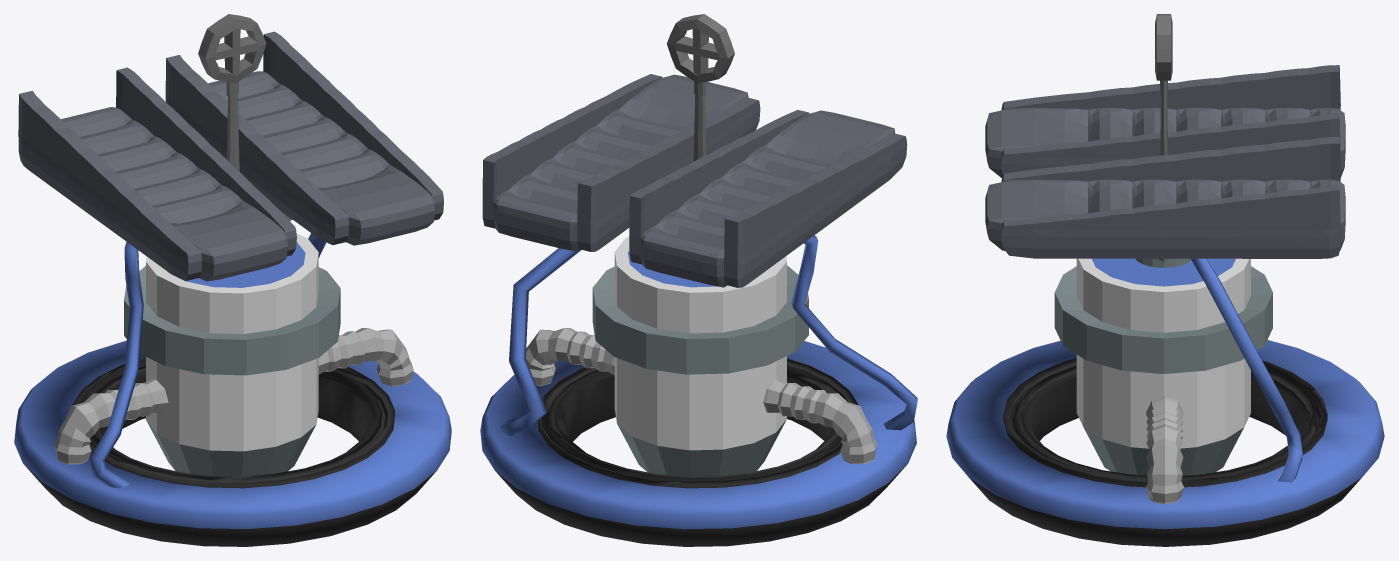
Rendered from rocketlauncher_level6.fbx.
The picture shows the model from 3 angles, left to right: view 1: azimuth 30°, elevation 25°; view 2: azimuth 150°, elevation 25°; view 3: azimuth 270°, elevation 25°; orthographic projection.
Visible parts, largest first — view 1: base.001, reactor, settlement_place.007, settlement_place.008, pipe_left.002, cable_right.002, pipe_left.001, focus_point.001, focus_point_bottom.001; view 2: base.001, reactor, settlement_place.007, settlement_place.008, pipe_left.002, cable_left.002, cable_right.002, focus_point.001, pipe_left.001, focus_point_bottom.001; view 3: base.001, settlement_place.008, reactor, settlement_place.007, cable_left.002, pipe_left.001, focus_point.001, focus_point_bottom.001.
Boxes of the visible parts, x1,y1,x2,y2 form: base.001: (14,340,451,546); reactor: (124,233,340,476); settlement_place.007: (18,67,296,281); settlement_place.008: (165,31,443,245); pipe_left.002: (54,379,168,464); cable_right.002: (90,242,143,488); pipe_left.001: (318,328,413,386); focus_point.001: (198,14,266,83); focus_point_bottom.001: (226,81,239,171); base.001: (480,341,916,546); reactor: (592,236,808,476); settlement_place.007: (629,110,907,287); settlement_place.008: (482,74,760,251); pipe_left.002: (763,379,877,464); cable_left.002: (500,248,581,435); cable_right.002: (791,235,917,430); focus_point.001: (667,14,734,83); pipe_left.001: (525,328,614,386); focus_point_bottom.001: (693,81,706,161); base.001: (946,340,1384,546); settlement_place.008: (985,137,1345,258); reactor: (1054,258,1272,475); settlement_place.007: (985,65,1345,177); cable_left.002: (1191,258,1302,482); pipe_left.001: (1145,396,1183,503); focus_point.001: (1155,14,1172,80); focus_point_bottom.001: (1160,80,1168,155).
Size of the model in its own units: 75.6 by 85.3 by 75.6.
